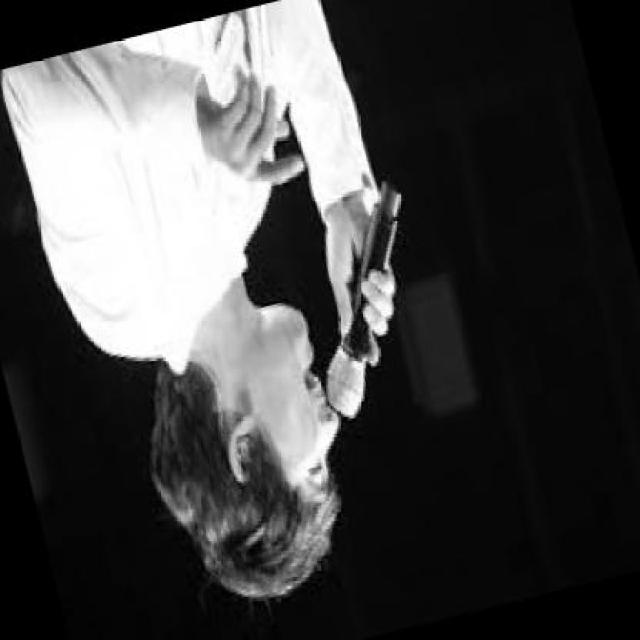earphone: (234, 422, 259, 474)
